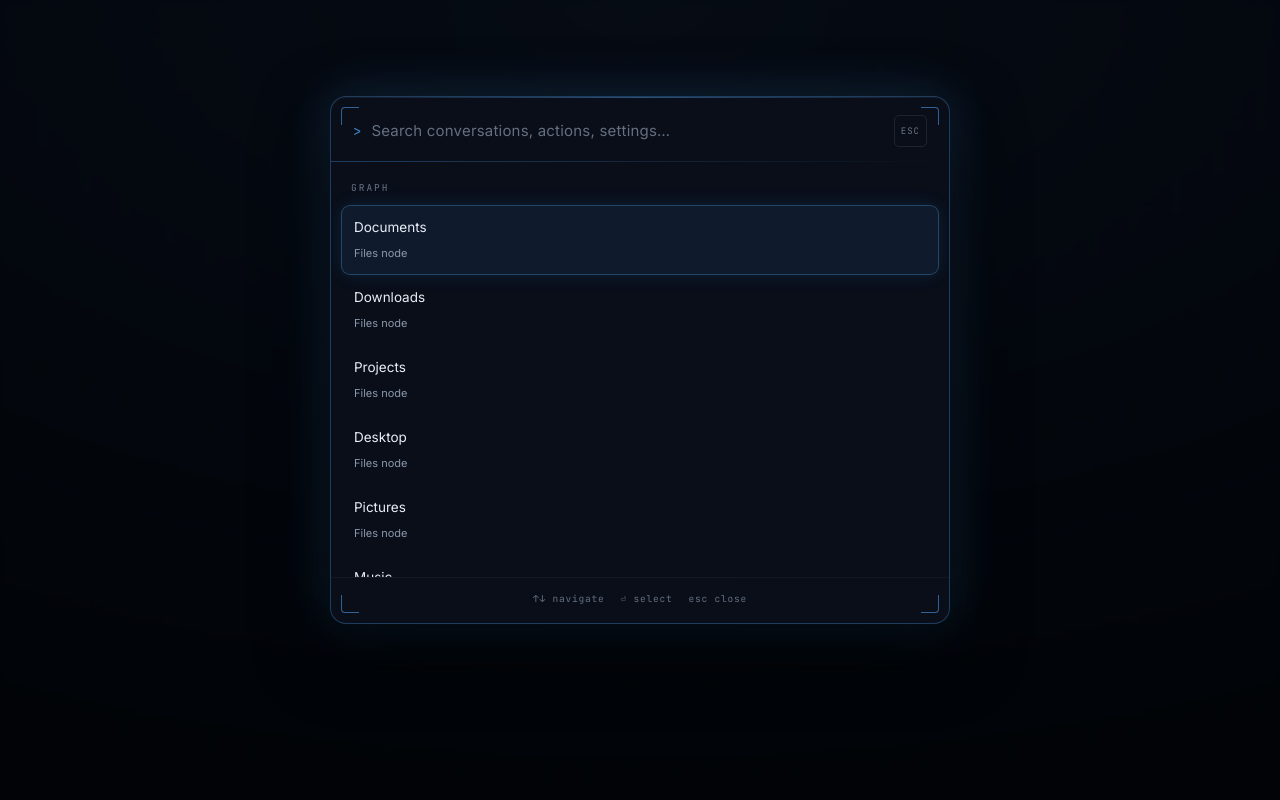
Test: CommandPalette › fuzzy-matches conversation titles
Step 1. Type "rust" into the field named "Command palette search" → (628, 131), box [371,119,884,143]
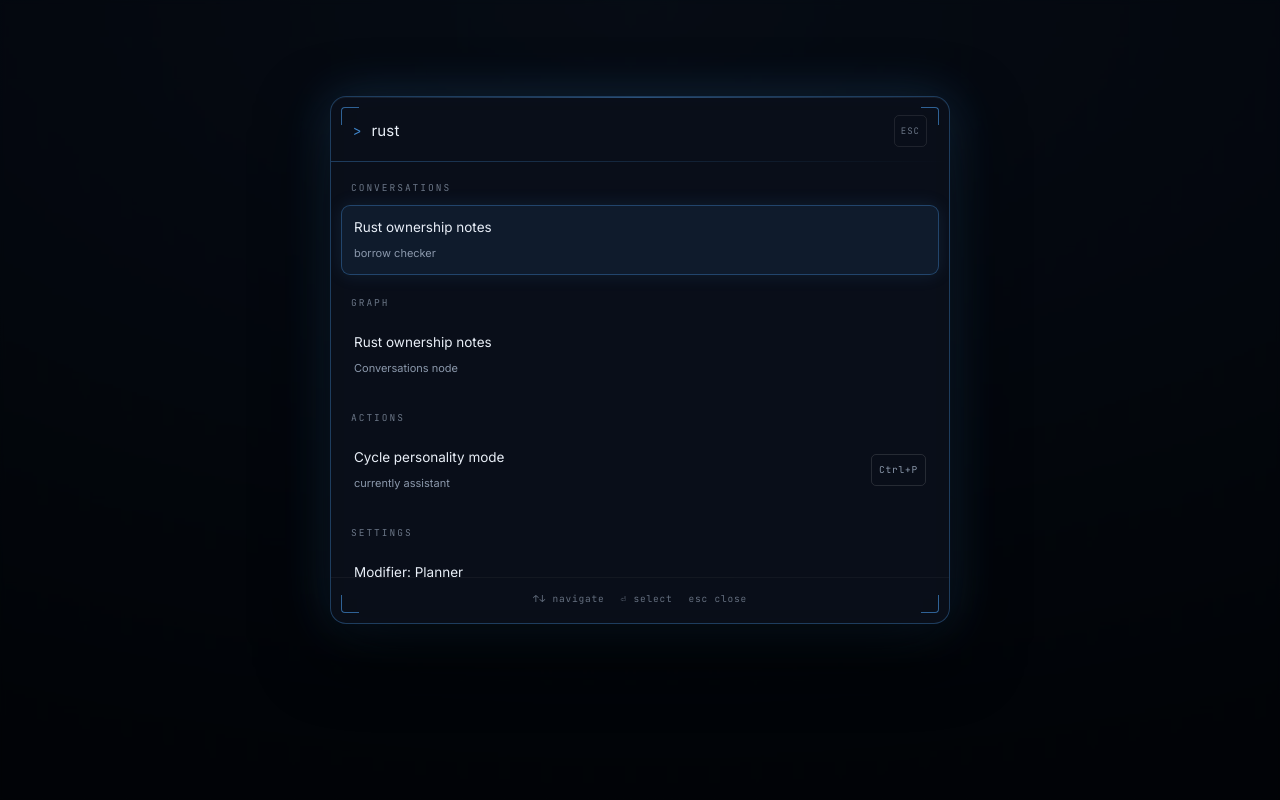
Check: the text "Rust ownership notes" is shown 2 times, box [354,215,492,239]; [354,330,492,354]
